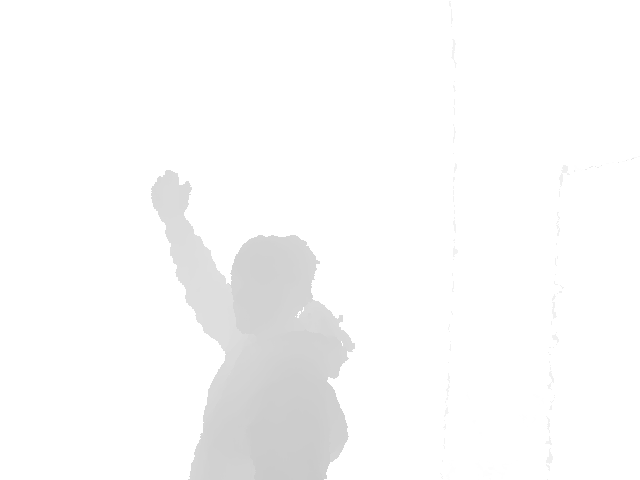hand: (149, 170, 192, 216)
head: (229, 234, 319, 335)
person: (149, 169, 357, 479)
